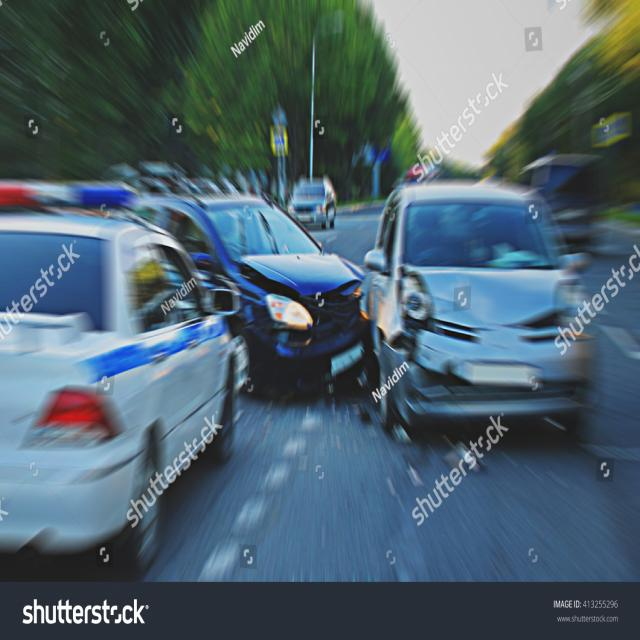accident: (203, 170, 554, 462)
